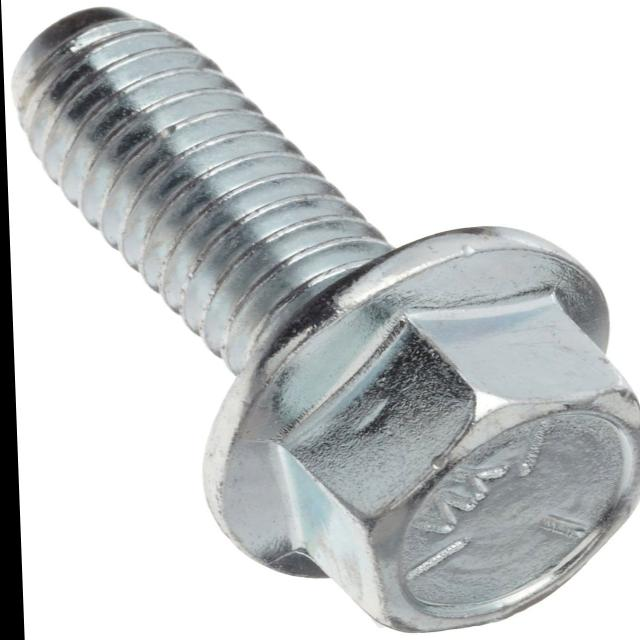Regular bolt: (173, 220, 640, 636)
